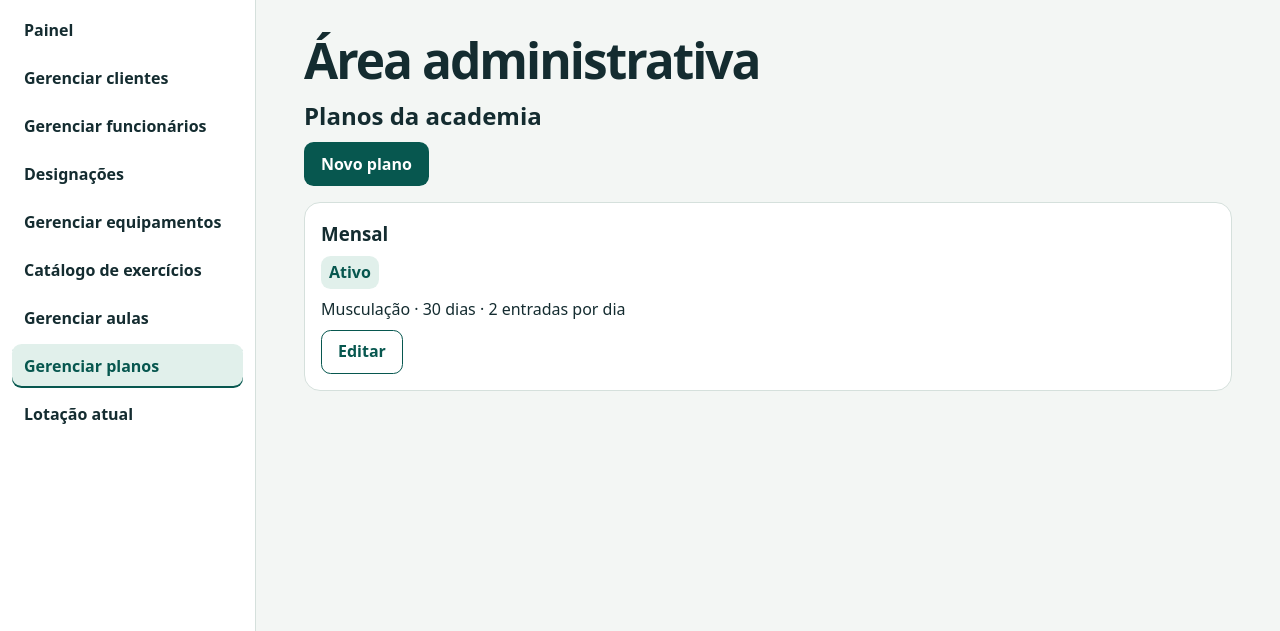
Scenario: administra plano e pode desativá-lo pela tela
Click the button with aria-label "Editar plano Mensal": (362, 352) [321, 330, 403, 374]
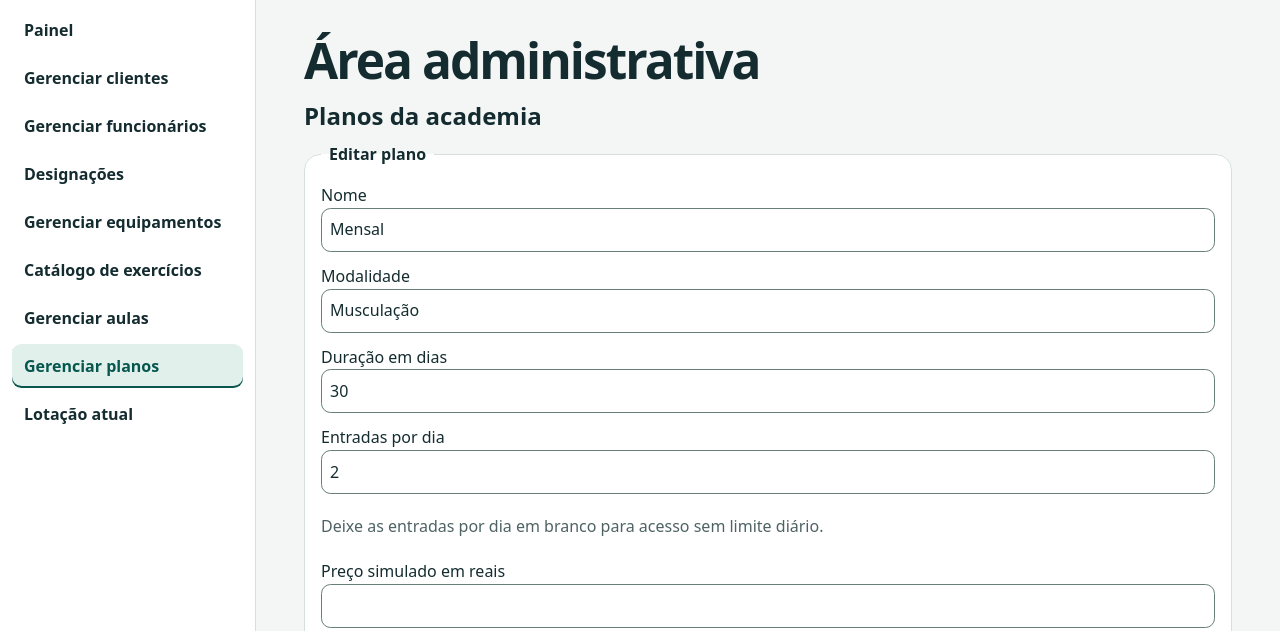
In the field labelled "Preço simulado em reais": (768, 606) [321, 584, 1215, 628], type "149,90"
(page scrolled)
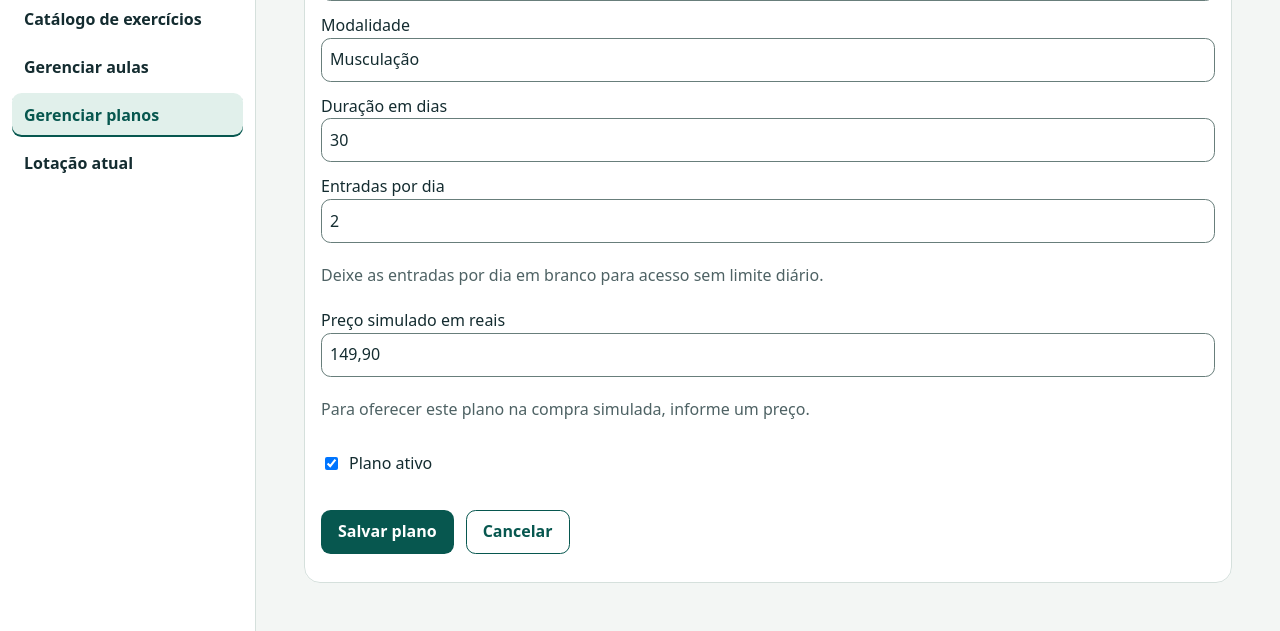
Click the checkbox labelled "Plano ativo": (332, 464) [325, 457, 338, 470]
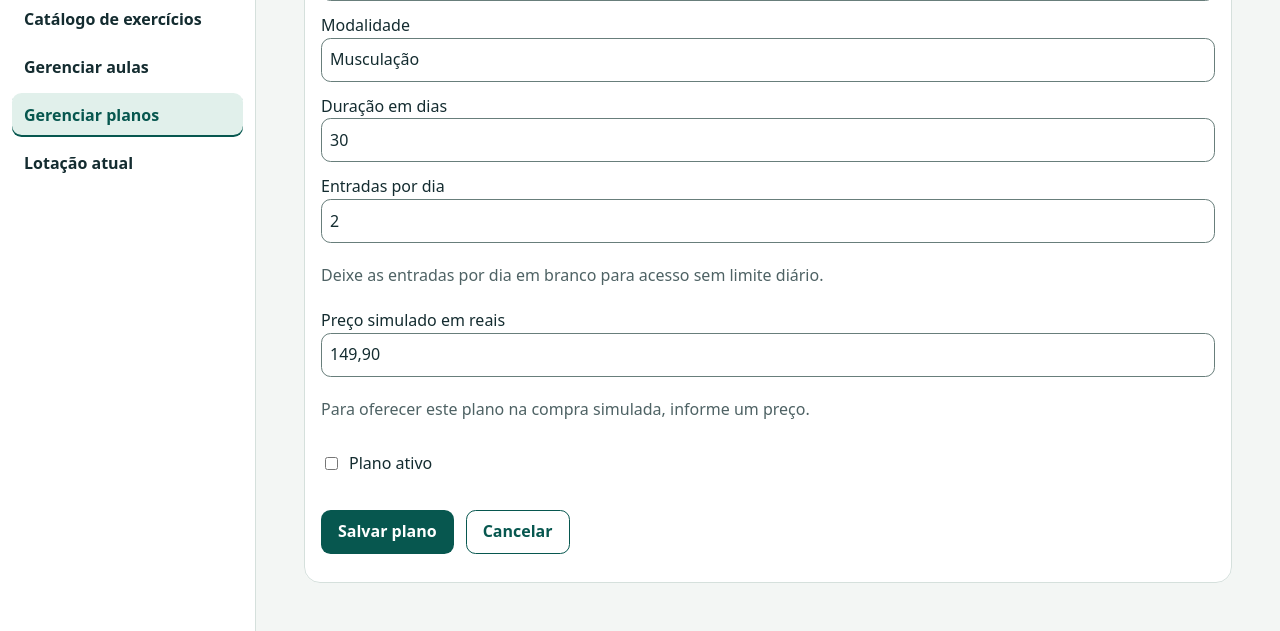
Click the button "Salvar plano": (387, 532) [321, 510, 454, 554]
(page scrolled)
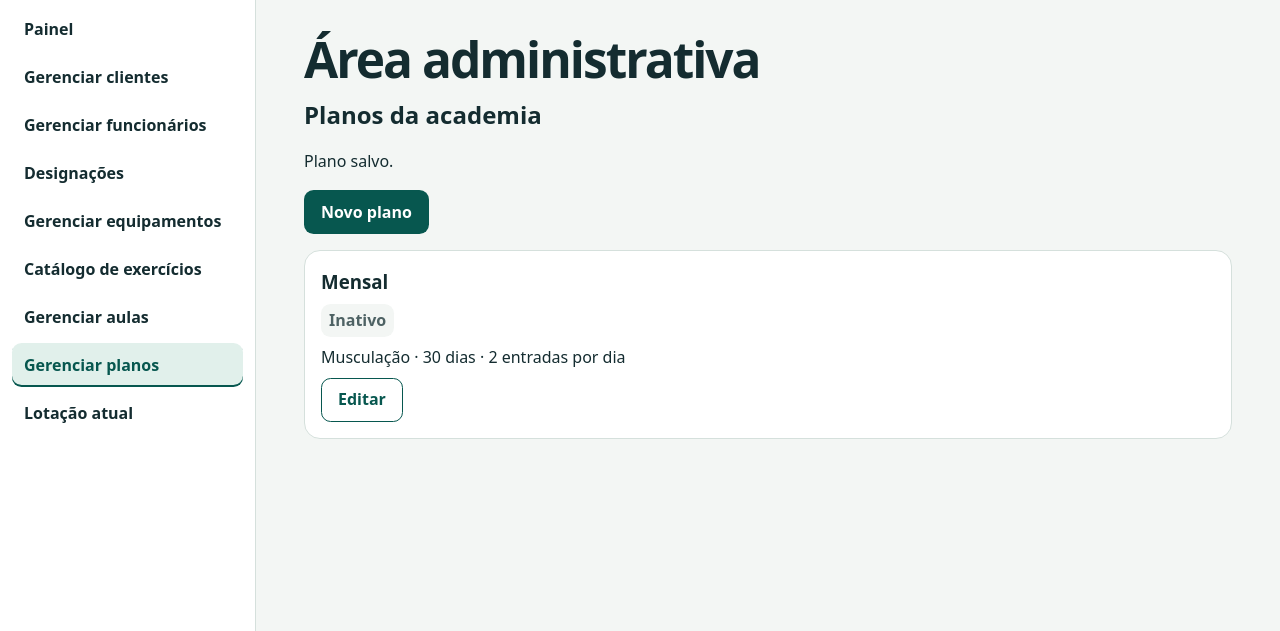
Expected: the text "Plano salvo." is shown, [304, 150, 393, 172]
Expected: the text "Inativo" is shown, [321, 304, 394, 337]
